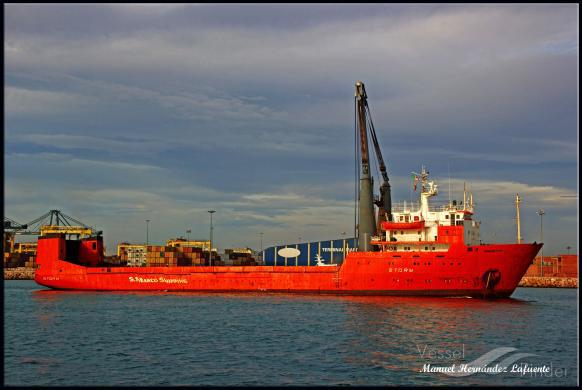OCR: (123, 270, 192, 285)
